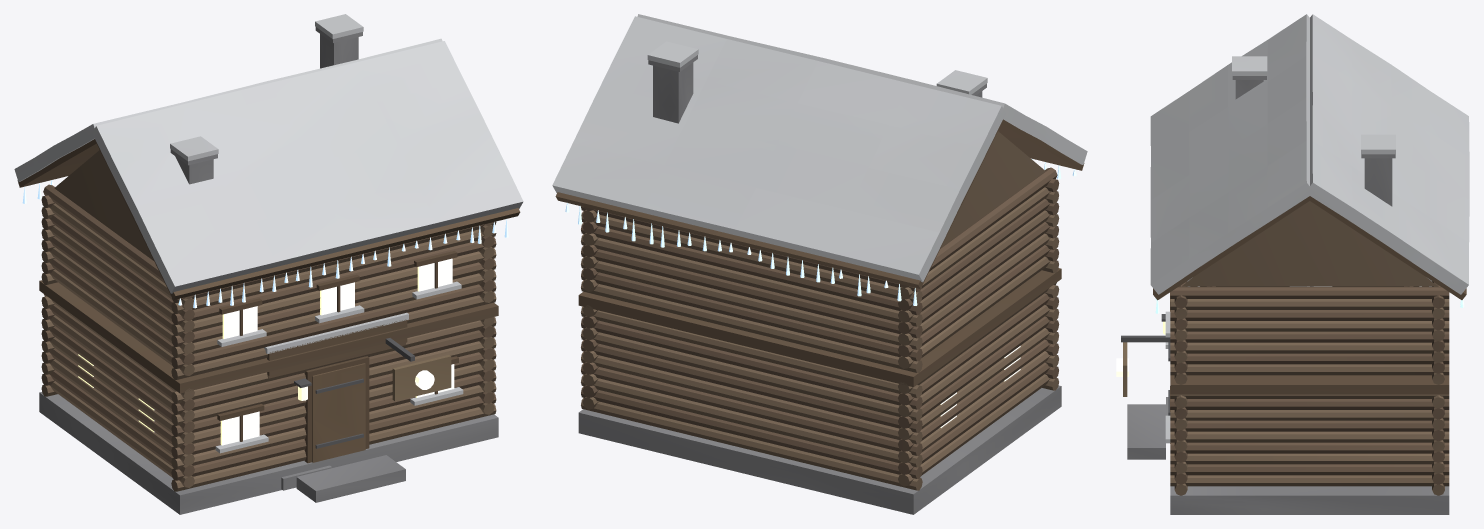
The model's file is NeveKit.glb.
3 renders of one model, left to right at view 1: azimuth 30°, elevation 25°; view 2: azimuth 150°, elevation 25°; view 3: azimuth 270°, elevation 25°, orthographic. The views are drawn at different scales.
Visible parts, largest first — view 1: Estalagem, CasaNeveB; view 2: Estalagem; view 3: Estalagem.
Part boxes in pixels (x1,y1,x2,y2): Estalagem: (14,14,523,514); CasaNeveB: (264,312,408,378); Estalagem: (552,14,1087,514); Estalagem: (1116,14,1469,514).
Size of the model in its own units: 9.3 by 9.96 by 8.24.
